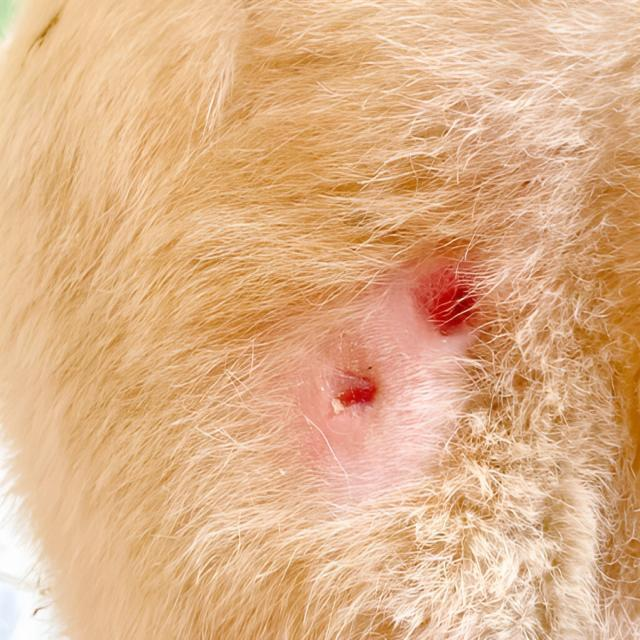hac lao: (208, 164, 576, 565)
